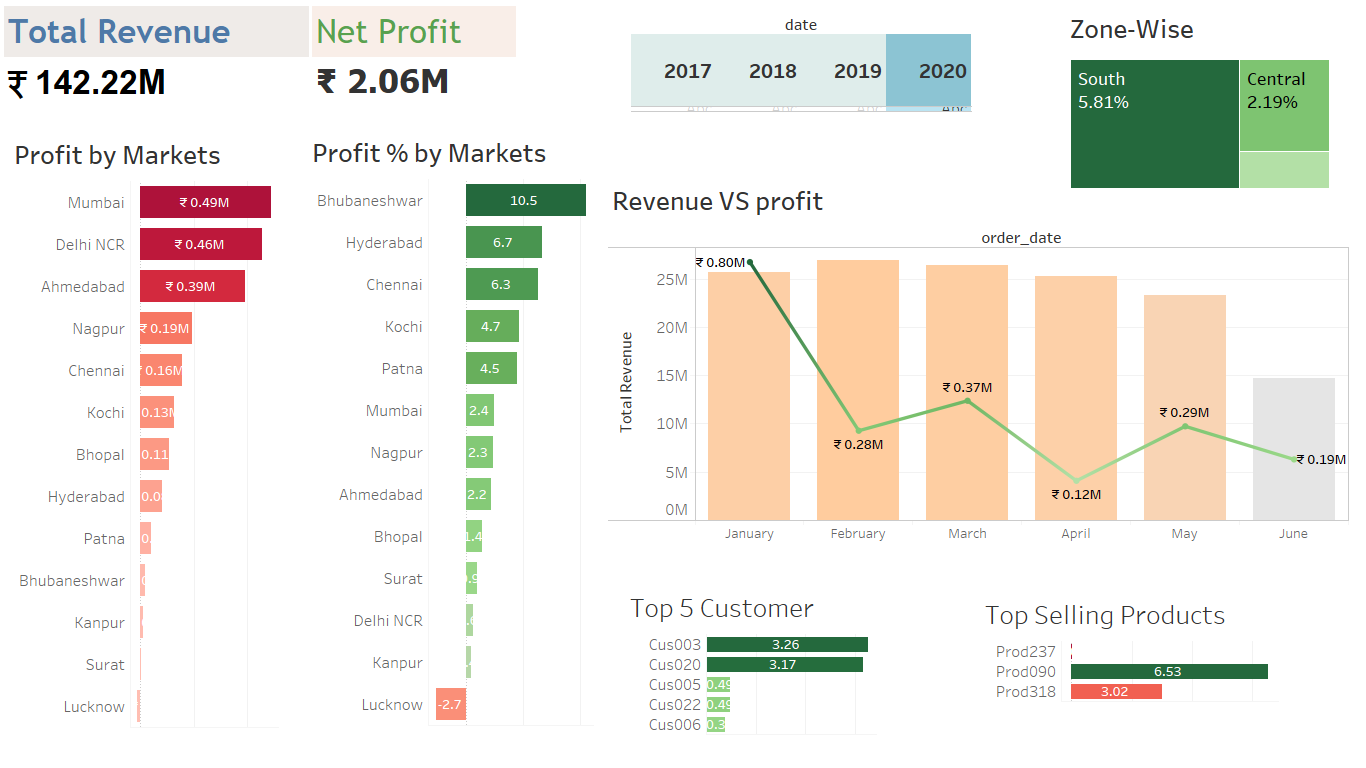

This screenshot's page, from the dashboard's own definition file:
{"tool":"tableau","page":{"name":"Profit Dashboard","canvas":[1366,768],"ordinal":0},"visuals":[{"type":"worksheet","title":"Zone profit","mark":"Automatic","box":[1066,5,299,188]},{"type":"worksheet","title":"total rev","mark":"Automatic","box":[4,6,316,122]},{"type":"worksheet","title":"net profit","mark":"Automatic","box":[312,6,291,101]},{"type":"worksheet","title":"year","mark":"Automatic","cols":["date"],"box":[631,14,362,110]},{"type":"worksheet","title":"Revenue VS profit","mark":"Bar","rows":["Calculation_1063131051944812544","profit_margin"],"cols":["order_date"],"box":[608,177,741,406]},{"type":"worksheet","title":"Top5 cust (2)","mark":"Automatic","rows":["customer_code"],"cols":["Calculation_551972494323118081"],"box":[626,584,332,180]},{"type":"worksheet","title":"top 5 product (2)","mark":"Automatic","rows":["product_code"],"cols":["Calculation_551972494323118081"],"box":[981,591,327,175]}]}

Visuals, with their boxes in screenshot pixels (x1, y1, x2, y2), scaled from the page's 1366x768 canvas onto the 1366x768 screenshot:
"Zone profit" worksheet: [x1=1066, y1=5, x2=1365, y2=193]
"total rev" worksheet: [x1=4, y1=6, x2=320, y2=128]
"net profit" worksheet: [x1=312, y1=6, x2=603, y2=107]
"year" worksheet: [x1=631, y1=14, x2=993, y2=124]
"Revenue VS profit" worksheet (Bar marks): [x1=608, y1=177, x2=1349, y2=583]
"Top5 cust (2)" worksheet: [x1=626, y1=584, x2=958, y2=764]
"top 5 product (2)" worksheet: [x1=981, y1=591, x2=1308, y2=766]
